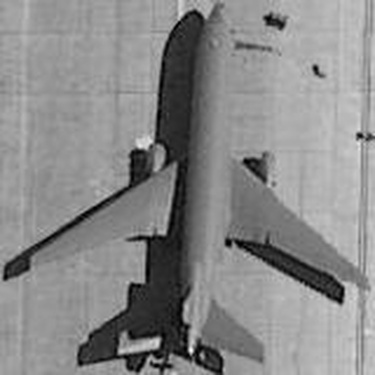airplane: (7, 5, 369, 373)
